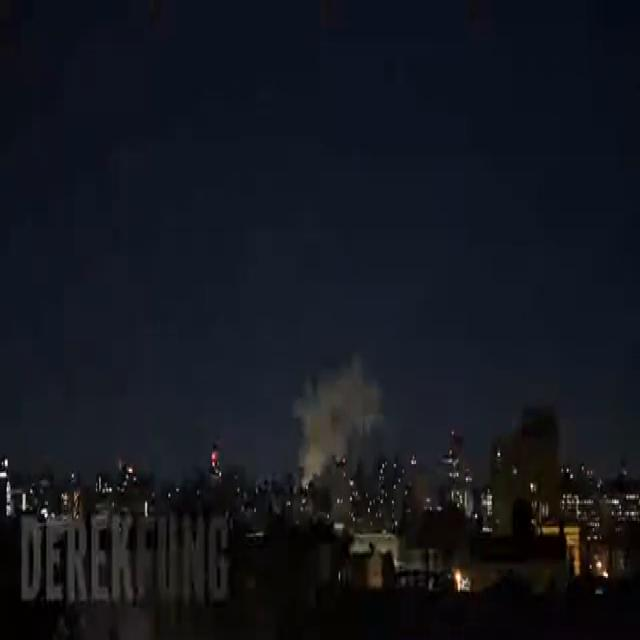smoke: (292, 356, 385, 476)
